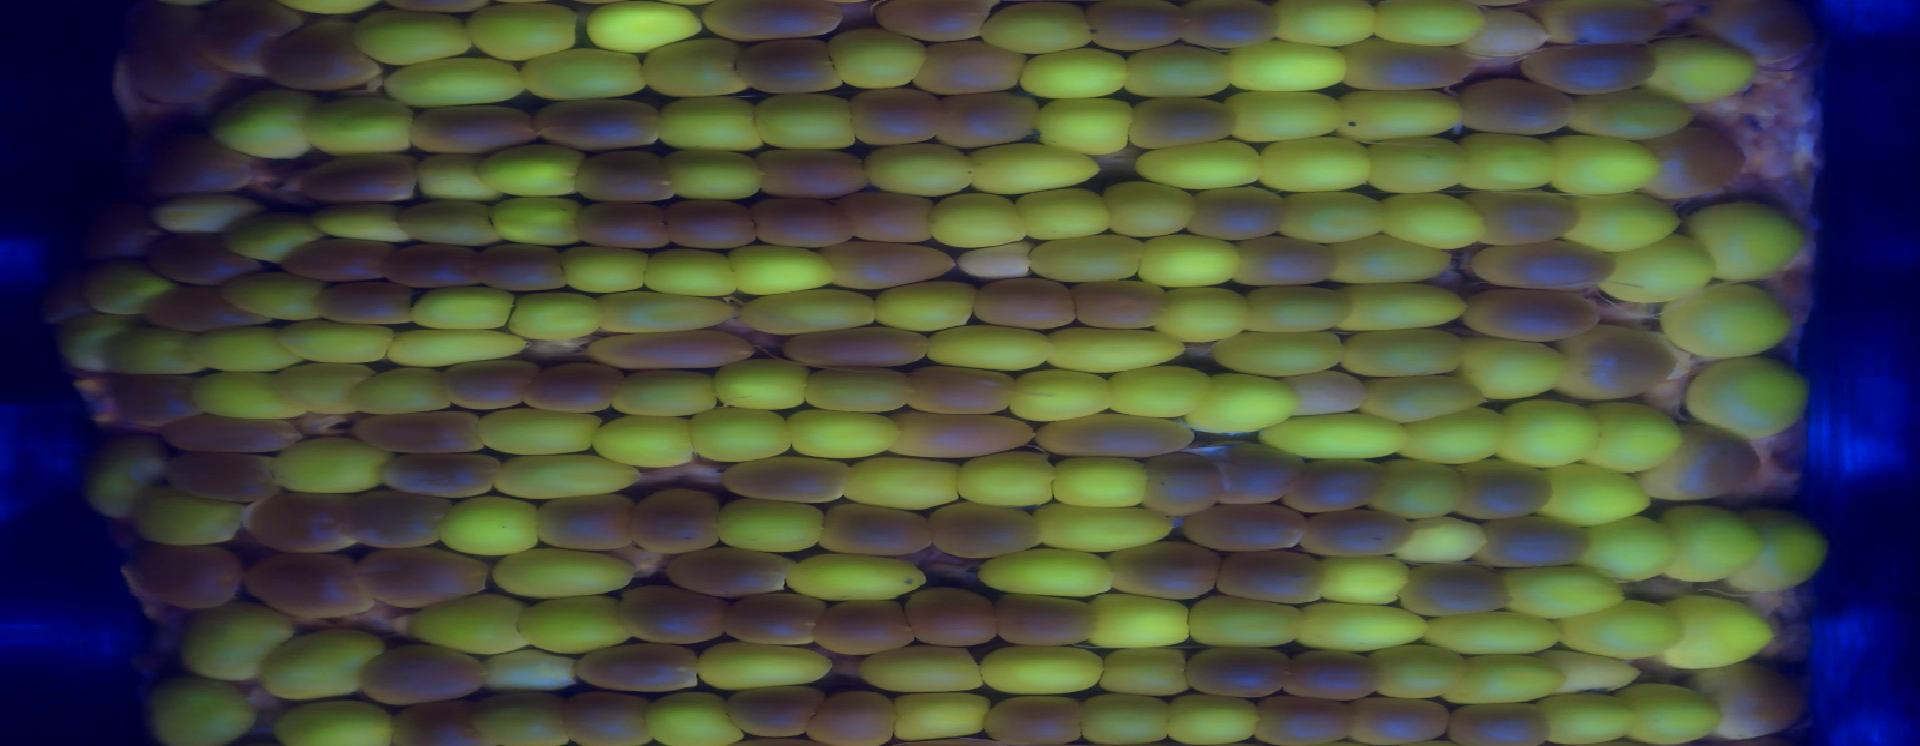fluorescent: (1682, 356, 1811, 436), (1695, 198, 1805, 287), (1657, 283, 1791, 352), (263, 625, 380, 698), (1660, 597, 1771, 674), (1596, 235, 1720, 303), (178, 599, 278, 681), (1731, 508, 1827, 590), (1559, 601, 1680, 661), (1548, 132, 1658, 197), (1262, 413, 1411, 461), (151, 676, 256, 742), (1643, 39, 1753, 102), (1660, 508, 1755, 581), (978, 548, 1117, 597), (842, 457, 965, 512), (386, 59, 527, 107), (411, 593, 525, 652), (969, 141, 1098, 192), (1228, 37, 1348, 92), (1494, 401, 1603, 461), (1336, 282, 1469, 331), (1542, 462, 1648, 523), (1567, 87, 1693, 138), (1036, 502, 1178, 548), (130, 489, 244, 545), (698, 644, 835, 691), (1337, 88, 1461, 140), (1462, 333, 1560, 398), (866, 142, 978, 198), (307, 96, 413, 156), (1333, 234, 1453, 287), (213, 92, 310, 157), (492, 450, 643, 491), (1588, 403, 1682, 469), (1562, 196, 1678, 250), (1427, 611, 1562, 657), (1359, 372, 1482, 423), (86, 437, 163, 517), (980, 641, 1108, 688), (519, 597, 633, 650), (789, 552, 927, 597), (1296, 603, 1434, 647), (1044, 325, 1187, 367), (492, 549, 633, 592), (1502, 567, 1622, 617), (1232, 88, 1343, 142), (858, 646, 987, 692), (1089, 590, 1190, 649), (523, 49, 648, 97), (478, 407, 602, 454), (353, 12, 471, 62), (440, 497, 539, 557), (733, 290, 880, 331), (1191, 376, 1297, 432), (643, 39, 746, 97), (642, 687, 742, 746), (757, 92, 855, 152), (688, 408, 797, 462), (658, 96, 764, 151), (1189, 597, 1303, 648), (1619, 684, 1720, 741), (1458, 127, 1554, 189), (470, 2, 576, 58), (269, 441, 384, 491), (1370, 134, 1462, 196), (1022, 47, 1128, 100), (1123, 44, 1231, 97), (1262, 137, 1370, 190), (1340, 328, 1468, 372), (192, 372, 305, 423), (1582, 518, 1674, 579), (924, 325, 1052, 369), (827, 28, 923, 86), (269, 698, 396, 742), (955, 454, 1058, 508), (1139, 236, 1240, 290), (1243, 284, 1352, 334), (1281, 187, 1380, 243), (1079, 690, 1176, 746), (587, 4, 700, 51), (719, 500, 822, 552), (1382, 194, 1483, 247), (1133, 143, 1262, 185), (1398, 412, 1509, 461), (599, 292, 731, 332), (1216, 334, 1343, 376), (411, 283, 514, 334), (1035, 97, 1130, 152), (1378, 459, 1463, 521), (480, 145, 582, 196), (222, 272, 324, 322), (785, 410, 899, 456), (876, 277, 973, 330), (384, 328, 523, 365), (1104, 181, 1196, 236), (593, 419, 698, 467), (1013, 372, 1117, 420), (1031, 236, 1144, 281), (1373, 2, 1485, 47), (1452, 657, 1561, 702), (1320, 552, 1409, 608), (1109, 366, 1205, 418), (1273, 2, 1376, 50), (88, 255, 167, 317), (283, 318, 391, 364), (731, 247, 833, 295), (804, 366, 909, 413), (1371, 642, 1458, 697), (1053, 457, 1150, 506), (354, 367, 449, 416), (669, 146, 762, 196), (190, 323, 293, 369), (1093, 647, 1190, 695), (1163, 695, 1258, 744), (282, 364, 369, 416), (644, 249, 737, 298), (1161, 288, 1249, 339), (508, 292, 600, 341), (1543, 695, 1635, 744), (609, 370, 716, 412), (928, 191, 1018, 240), (491, 197, 578, 247), (718, 360, 804, 410), (1019, 189, 1109, 236), (107, 328, 198, 375), (223, 212, 312, 260), (313, 201, 409, 244), (564, 246, 649, 294), (896, 693, 987, 737), (415, 154, 495, 203), (1551, 650, 1641, 693), (62, 312, 121, 377), (1403, 514, 1482, 562), (153, 197, 253, 230)
nonfluorescent: (1643, 425, 1758, 500), (1558, 325, 1674, 394), (120, 548, 244, 612), (268, 20, 373, 94), (246, 555, 371, 615), (355, 552, 487, 609), (888, 412, 1038, 458), (1473, 241, 1619, 289), (1524, 40, 1653, 94), (191, 4, 290, 73), (358, 647, 482, 702), (1643, 132, 1745, 200), (1343, 40, 1476, 92), (122, 32, 218, 103), (1472, 290, 1600, 342), (1706, 668, 1800, 737), (820, 502, 933, 560), (1108, 543, 1218, 600), (244, 494, 351, 552), (146, 229, 253, 287), (1453, 457, 1549, 522), (409, 107, 538, 154), (827, 243, 958, 289), (1038, 416, 1194, 456), (533, 98, 660, 146), (929, 502, 1040, 557), (1461, 82, 1578, 134), (782, 327, 927, 369), (738, 36, 842, 93), (1474, 521, 1592, 571), (593, 332, 753, 369), (578, 643, 698, 692), (1403, 565, 1512, 619), (618, 587, 722, 643), (938, 89, 1040, 147), (349, 491, 451, 549), (1187, 500, 1303, 550), (302, 154, 418, 205), (670, 550, 793, 597), (724, 458, 844, 506), (1129, 94, 1239, 146), (722, 590, 827, 644), (1213, 551, 1322, 603), (153, 135, 250, 192), (573, 148, 676, 202), (1284, 461, 1387, 514), (1469, 194, 1577, 245), (913, 40, 1024, 91), (351, 409, 480, 452), (167, 454, 276, 505), (381, 452, 497, 499), (538, 496, 633, 552), (996, 595, 1100, 647), (146, 287, 267, 331), (753, 195, 850, 250), (1187, 647, 1292, 697), (1300, 508, 1408, 557), (633, 492, 720, 552), (756, 151, 864, 198), (703, 2, 844, 39), (983, 693, 1086, 744), (816, 601, 917, 652), (849, 87, 940, 142), (725, 684, 817, 739), (973, 278, 1076, 327), (1191, 187, 1289, 239), (1179, 1, 1278, 51), (1216, 443, 1300, 502), (1348, 692, 1449, 741), (909, 589, 996, 646), (164, 416, 301, 452), (811, 692, 900, 746), (280, 240, 389, 284), (1082, 2, 1180, 51), (1287, 650, 1374, 706), (1258, 695, 1351, 746), (845, 192, 936, 245), (874, 1, 994, 40), (1145, 454, 1223, 514), (315, 281, 409, 330), (1236, 236, 1333, 283), (564, 692, 649, 746), (662, 201, 753, 251), (909, 367, 1011, 412), (523, 363, 615, 412), (110, 371, 193, 425), (444, 360, 531, 412), (475, 244, 567, 292), (1076, 283, 1173, 328), (577, 202, 670, 247), (387, 245, 475, 293), (1449, 708, 1547, 744), (398, 706, 482, 746), (100, 187, 149, 256)
